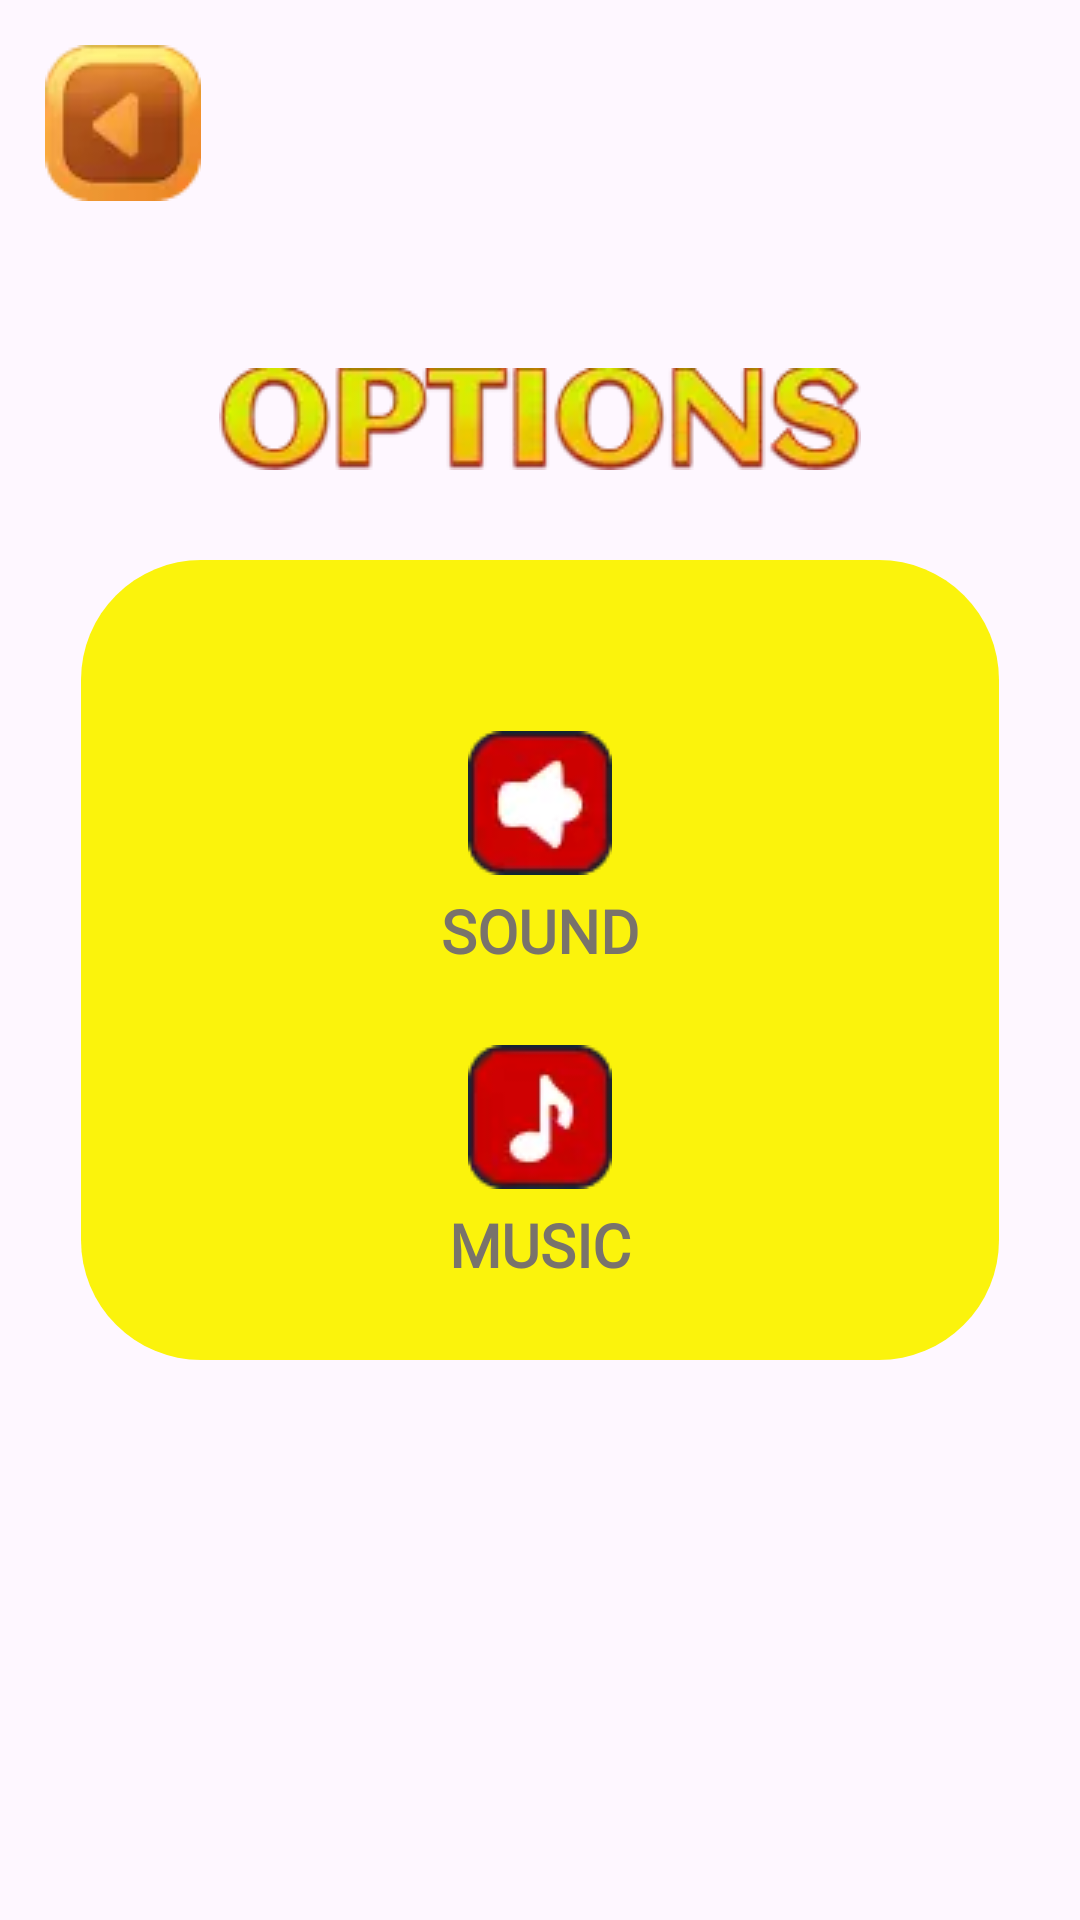

Icons on this 1080x1920 Android screen, each with its box as {"x1": x1, "y1": y1, "x2": x2, "y2": y2}:
back: {"x1": 45, "y1": 45, "x2": 201, "y2": 201}
